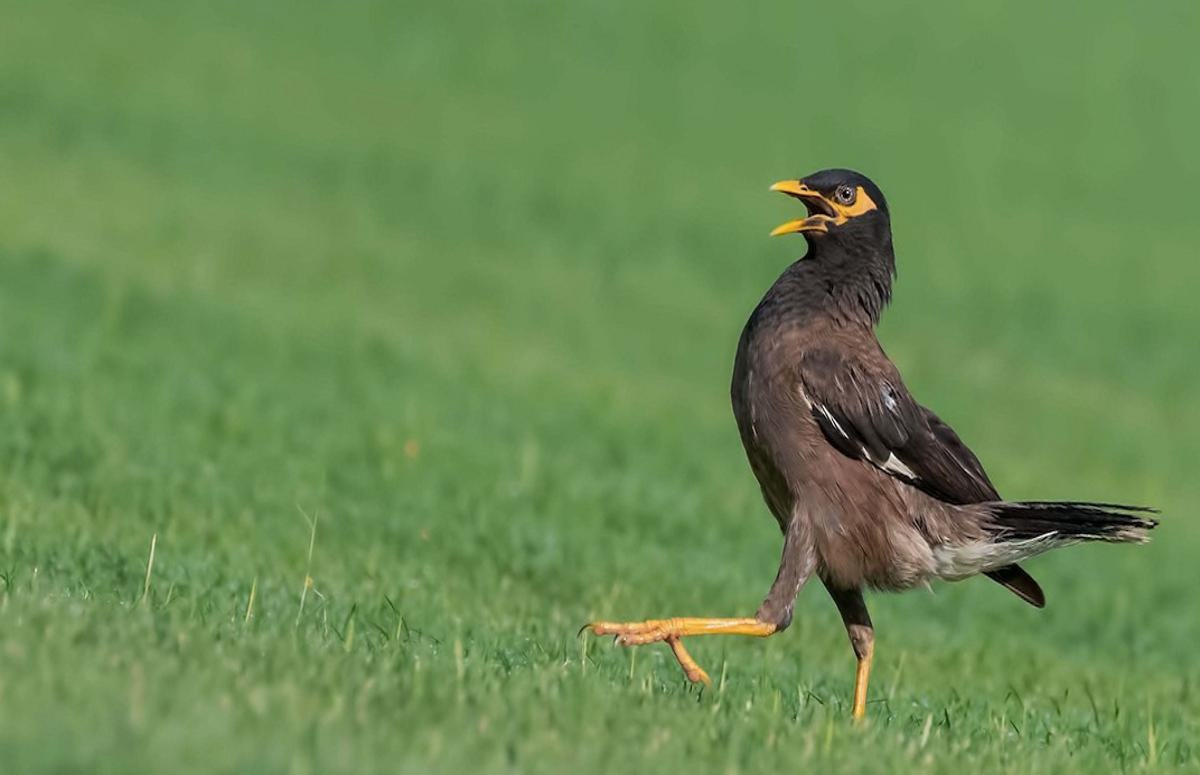myna: (676, 123, 1079, 763)
